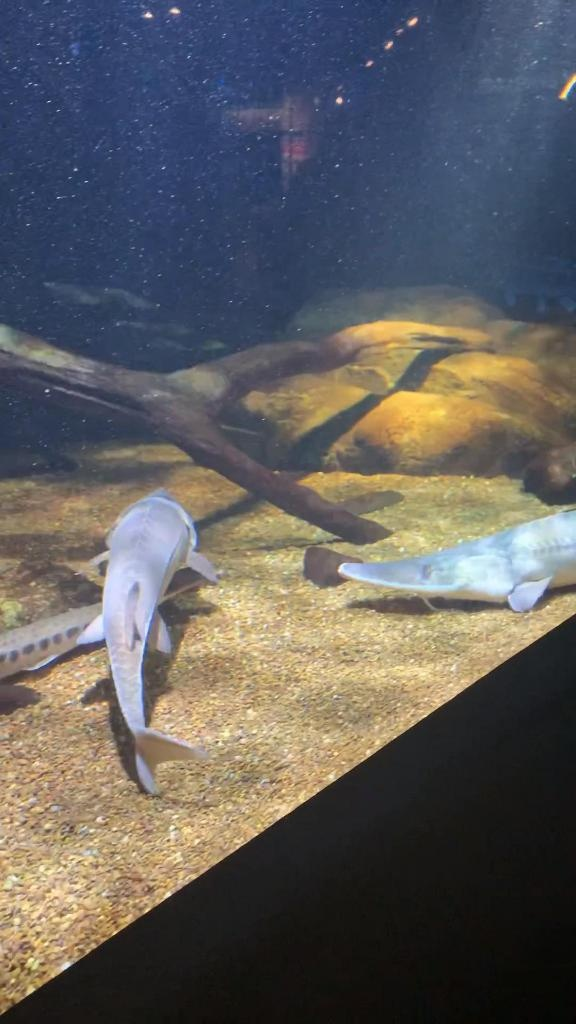fish: (1, 566, 225, 682), (336, 508, 576, 614)
shark: (81, 485, 221, 801)
